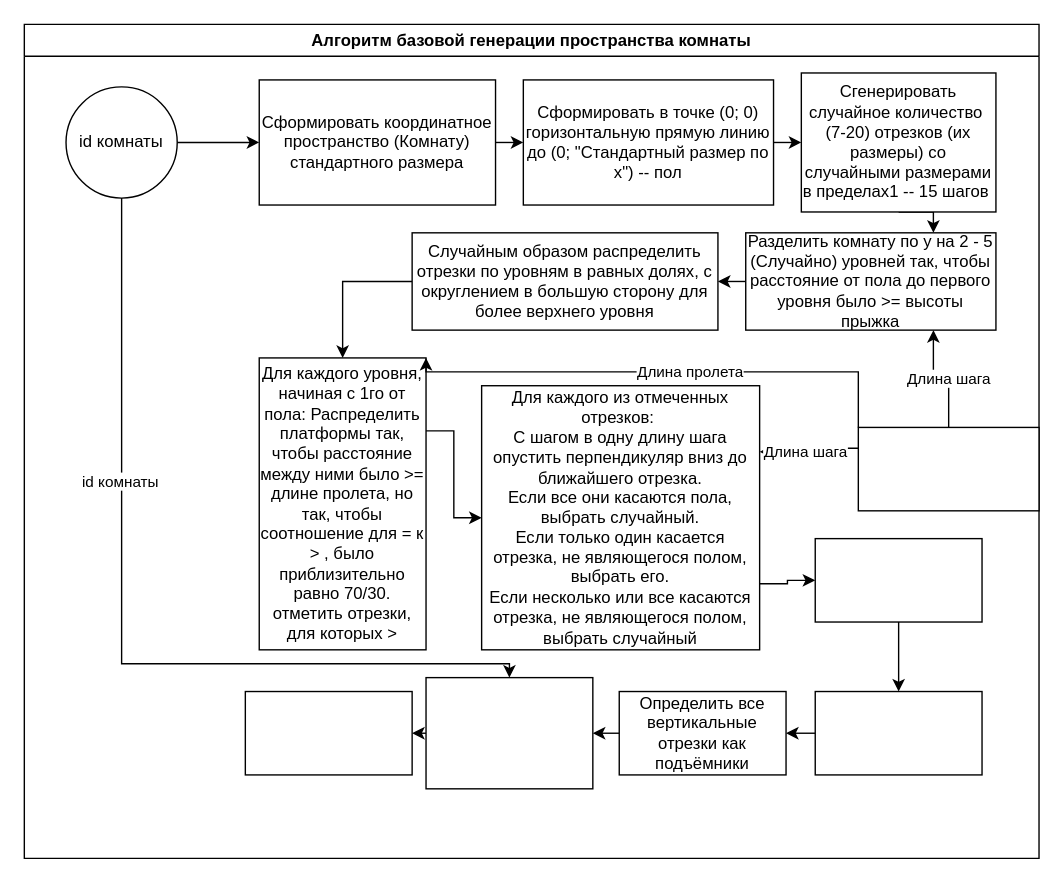
Some shapes in this 1063 by 883 pixel diagram are drawn without their labels. The centre of each missing label's shape, as x and y in pixels:
"Записать в хранилище комнат для id комнаты координаты всех отрезков" belongs at point 509,732.
"Определить все горизонтальные отрезки как платформы" belongs at point 898,732.
"Удалить все не выбранные перпендикуляры" belongs at point 898,579.
"Хранилище глобальных переменных" belongs at point 948,468.
"Хранилище комнат" belongs at point 328,732.
